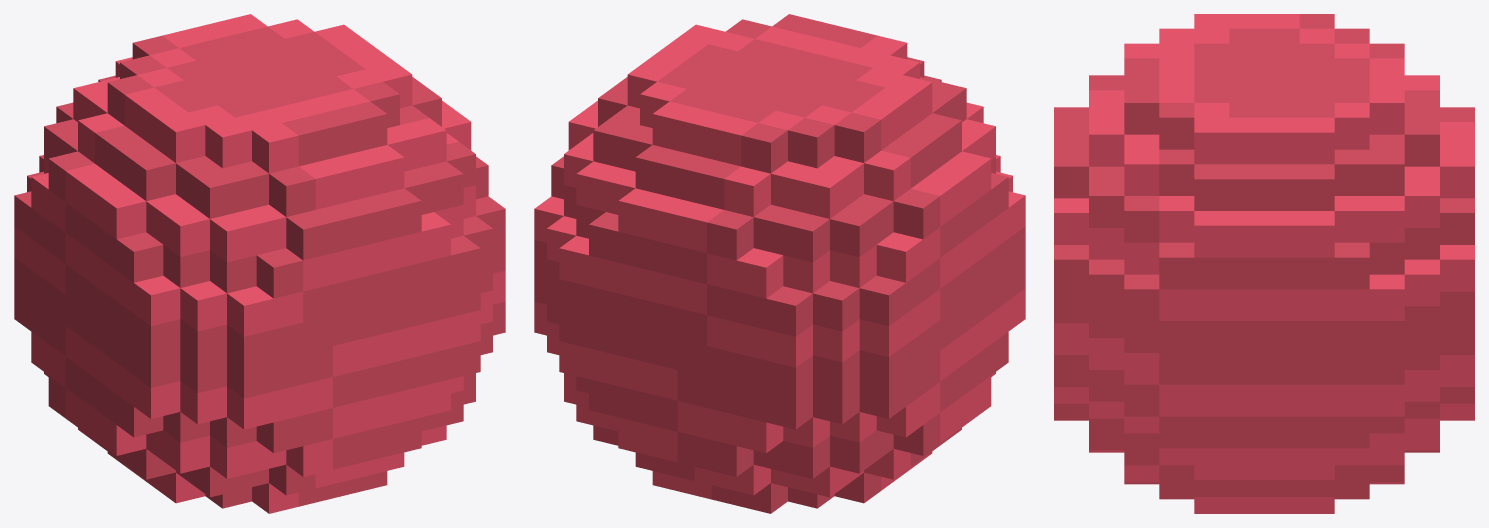
File: Planet_Red.obj
3 views of the same model, side by side, from view 1: azimuth 30°, elevation 25°; view 2: azimuth 150°, elevation 25°; view 3: azimuth 270°, elevation 25° (orthographic). The views are drawn at different scales.
Bounding box in the file's own units: 12 × 12 × 12.
1 material, 1 textured.
